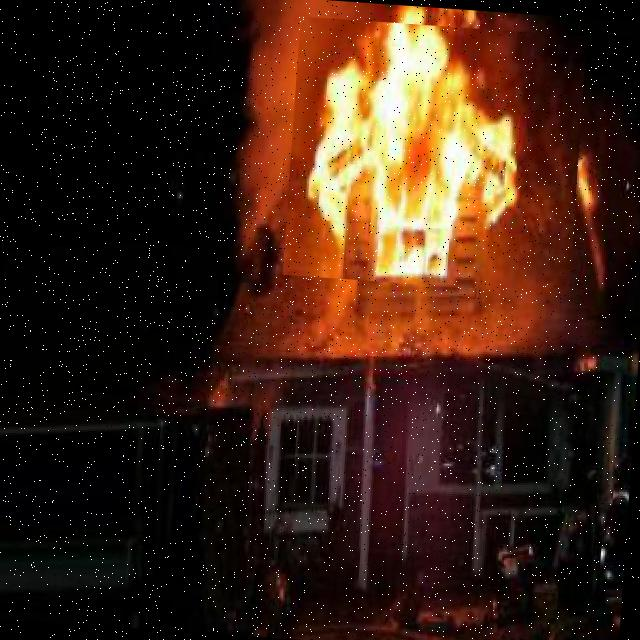fire: (283, 16, 586, 294)
